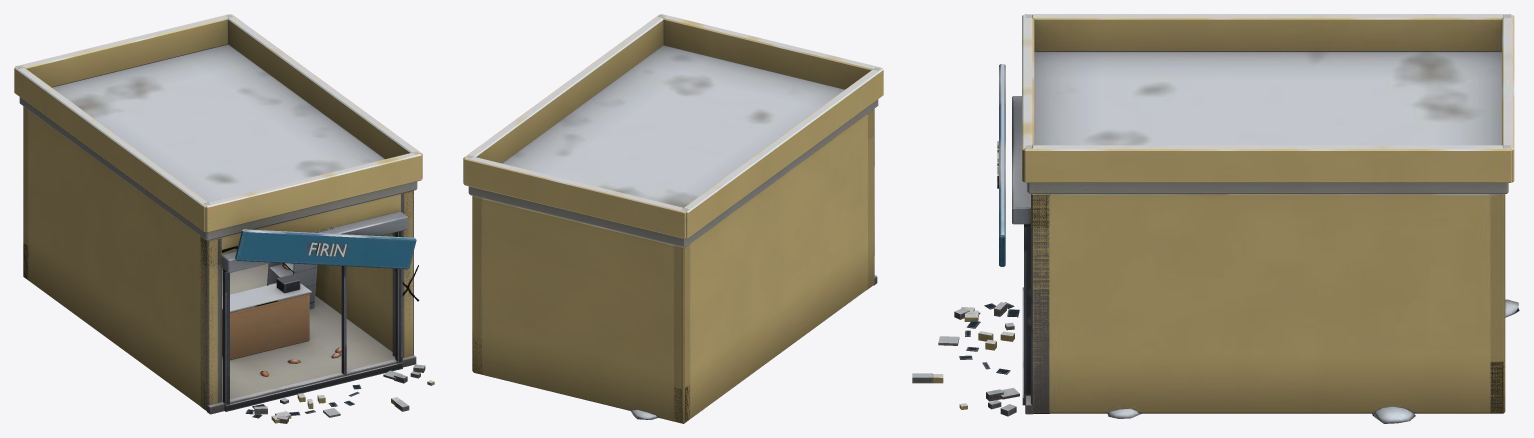
The model's file is bld_shop_firin.glb.
3 renders of one model, left to right at view 1: azimuth 30°, elevation 25°; view 2: azimuth 150°, elevation 25°; view 3: azimuth 270°, elevation 25°, orthographic. The views are drawn at different scales.
Parts seen in each view (by area): view 1: bld_shop_firin; view 2: bld_shop_firin; view 3: bld_shop_firin.
Part boxes in pixels (left/top/right/bottom): bld_shop_firin: left=14, top=14, right=434, bottom=423; bld_shop_firin: left=463, top=14, right=883, bottom=423; bld_shop_firin: left=912, top=14, right=1519, bottom=423.
Bounding box in the file's own units: 4.96 × 4.4 × 8.96.
Materials: 3 (1 with a texture image).
